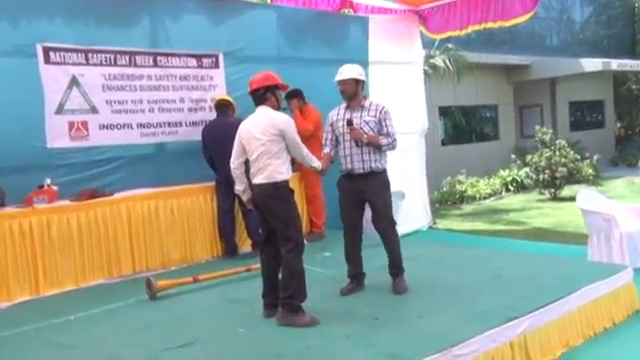helmet: (246, 69, 290, 95), (330, 60, 370, 84), (212, 93, 237, 112)
helmet_off: (285, 85, 308, 114)
helmet_on: (245, 69, 291, 116), (329, 59, 370, 111), (211, 92, 238, 121)
person: (230, 69, 324, 327), (325, 62, 414, 296), (200, 92, 256, 257), (284, 84, 326, 242)
